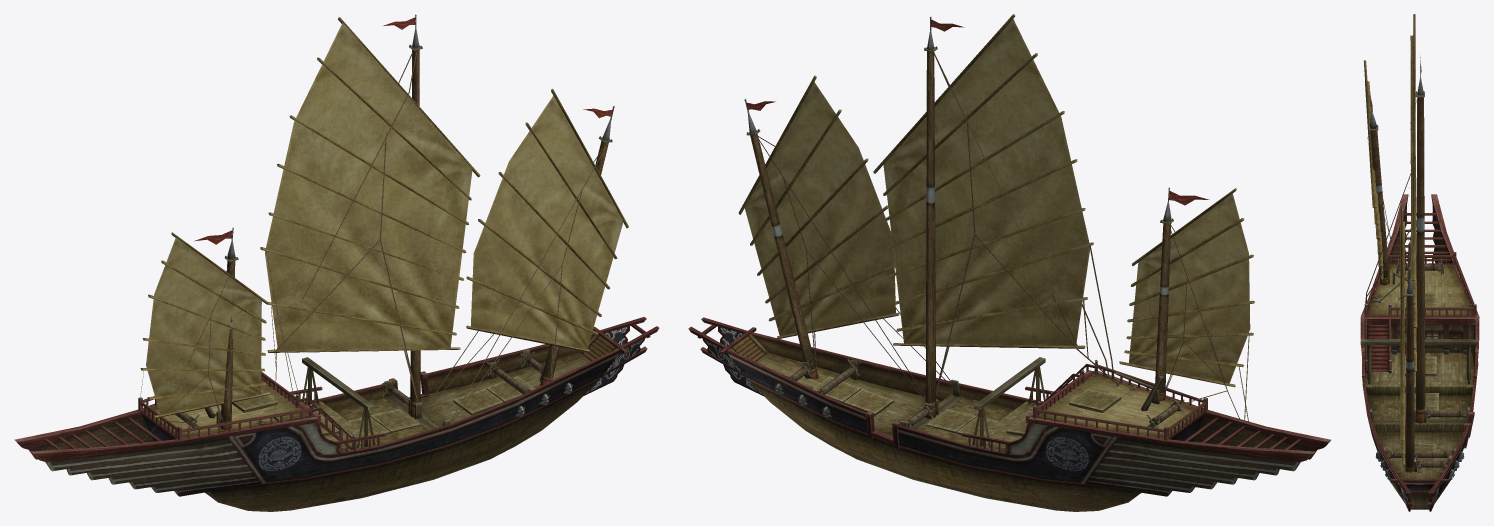
Rendered from fortms_ship00.fbx.
3 views of the same model, side by side, from view 1: azimuth 30°, elevation 25°; view 2: azimuth 150°, elevation 25°; view 3: azimuth 270°, elevation 25° (orthographic). The views are drawn at different scales.
Visible parts, largest first — view 1: objobjBox50, Object01, objObject01, Object02; view 2: objobjBox50, Object01, objObject01, Object02; view 3: Object01, objobjBox50, objObject01, Object02.
Part boxes in pixels (x1,y1,x2,y2): objobjBox50: (130, 14, 628, 444); Object01: (14, 316, 659, 511); objObject01: (44, 371, 533, 455); Object02: (175, 349, 572, 448); objobjBox50: (738, 14, 1254, 422); Object01: (688, 317, 1330, 511); objObject01: (813, 364, 1301, 455); Object02: (774, 357, 1184, 447); Object01: (1360, 194, 1479, 511); objobjBox50: (1363, 14, 1425, 472); objObject01: (1363, 213, 1476, 467); Object02: (1360, 242, 1477, 479).
Bounding box in the file's own units: 84.9 × 62.06 × 15.68.
